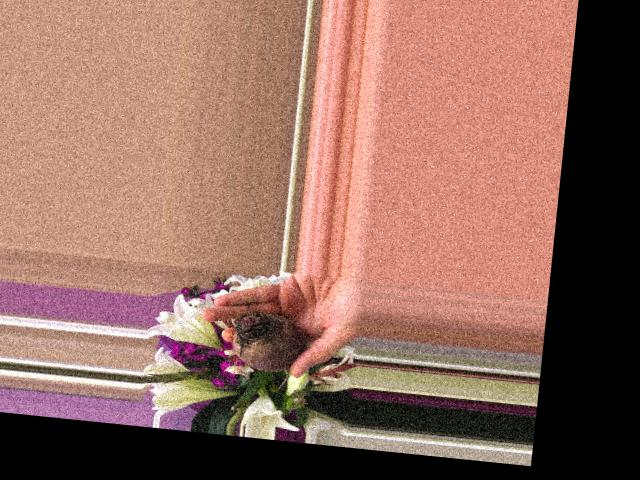beet: (227, 309, 309, 392)
